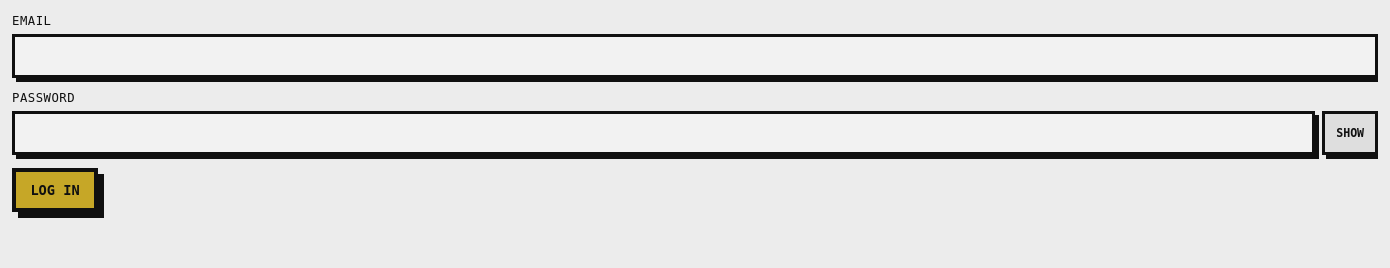
Test: auth forms › shows login errors without storing credentials or redirecting
In the field labelled "Email": (695, 56) [12, 34, 1378, 78], type "student@college.edu"
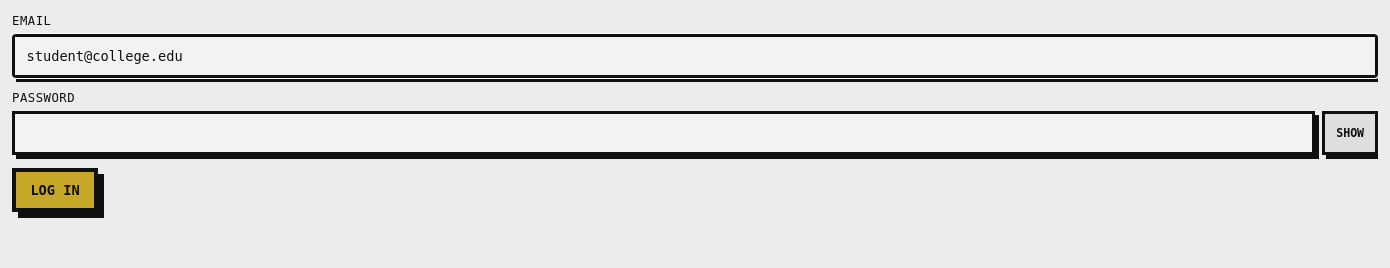
In the password field labelled "Password": (663, 133) [12, 111, 1315, 155], type "wrong-password"
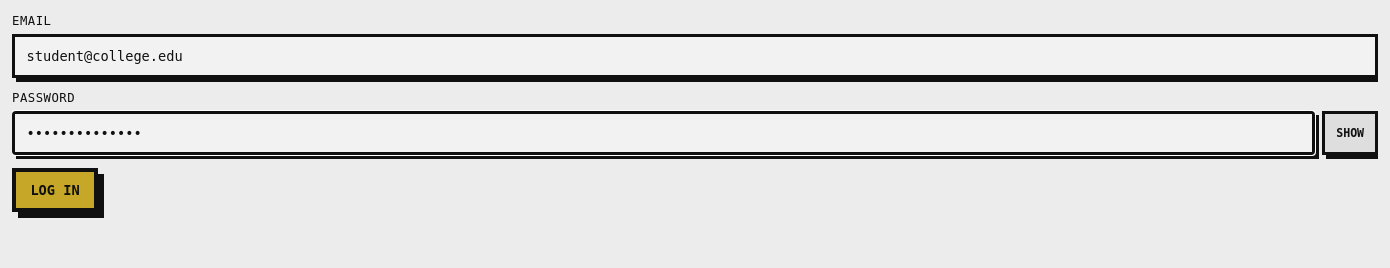
Click the button "LOG IN": (55, 190) [12, 168, 98, 212]
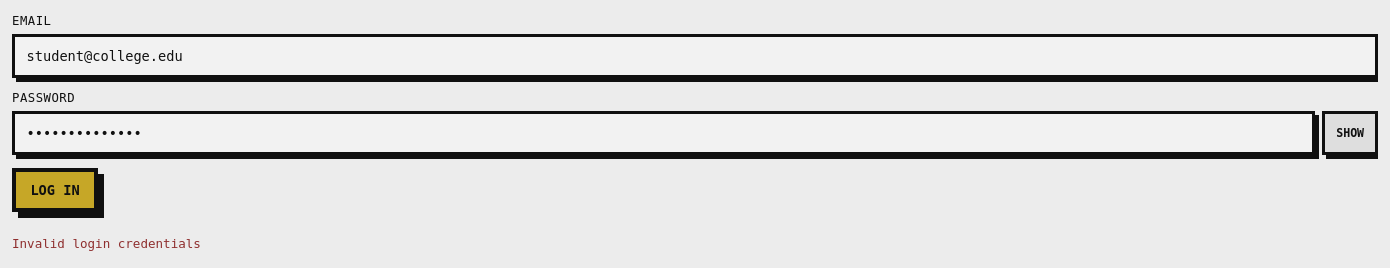
Expected: the text "Invalid login credentials" is shown, [12, 236, 201, 251]
